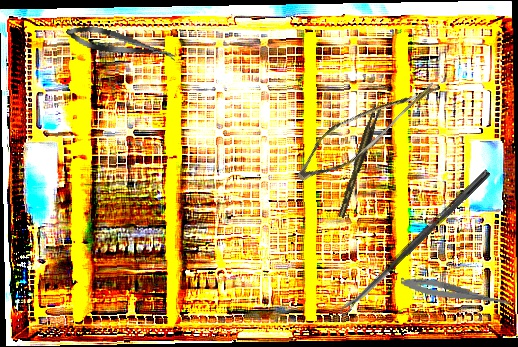Micro Scissor: (289, 51, 442, 204), (63, 20, 179, 68), (399, 274, 517, 310)
Surgical Spoon: (337, 168, 492, 317)
Tissue Forceps: (332, 103, 386, 219)
